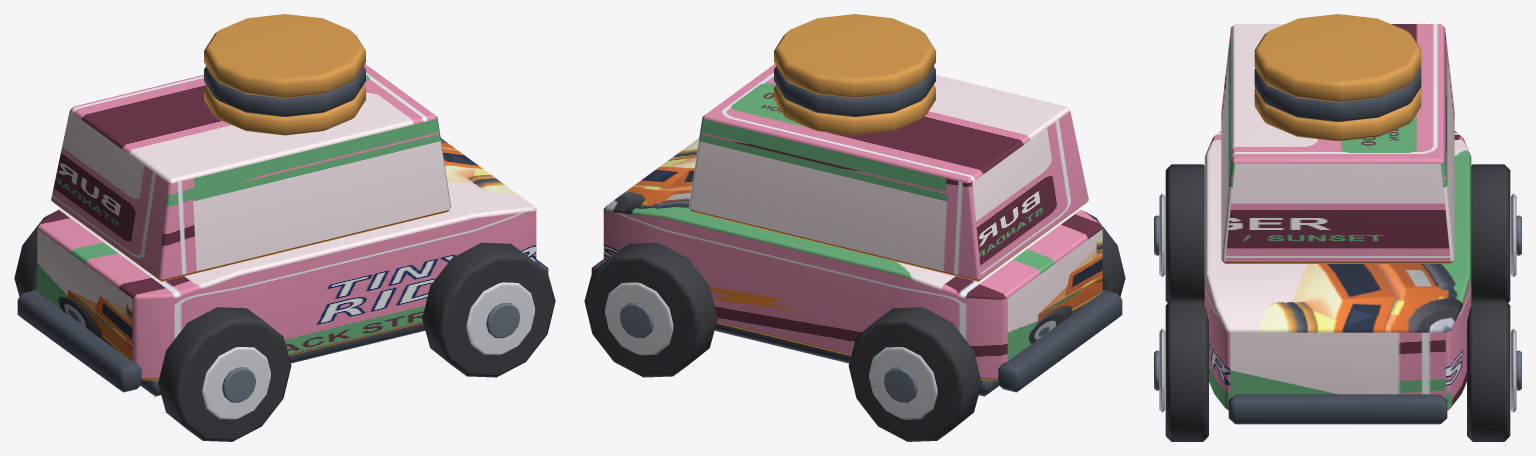
The picture shows the model from 3 angles, left to right: view 1: azimuth 30°, elevation 25°; view 2: azimuth 150°, elevation 25°; view 3: azimuth 270°, elevation 25°; orthographic projection. The views are drawn at different scales.
Visible parts, largest first — view 1: SS-03_cabin, SS-03_connected_shell, burger layer.002, Tire, Tire.002, front bumper, burger layer.001, burger layer, Rim, Rim.002, underbody, Tire.001 (+2 smaller); view 2: SS-03_cabin, SS-03_connected_shell, burger layer.002, Tire.001, Tire.003, front bumper, burger layer.001, burger layer, Rim.001, Rim.003, underbody, Tire (+2 smaller); view 3: SS-03_connected_shell, SS-03_cabin, burger layer.002, rear bumper, Tire.002, Tire.003, Tire, Tire.001, burger layer.001, burger layer, Rim, Rim.001 (+2 smaller).
Part boxes in pixels (<box>): SS-03_cabin: <box>51,64,450,281</box>; SS-03_connected_shell: <box>37,138,536,380</box>; burger layer.002: <box>204,14,365,98</box>; Tire: <box>158,307,291,441</box>; Tire.002: <box>422,242,555,377</box>; front bumper: <box>17,290,142,392</box>; burger layer.001: <box>204,66,365,116</box>; burger layer: <box>204,85,365,135</box>; Rim: <box>202,347,270,419</box>; Rim.002: <box>466,282,534,355</box>; underbody: <box>140,323,425,396</box>; Tire.001: <box>14,211,55,296</box>; SS-03_cabin: <box>689,64,1088,281</box>; SS-03_connected_shell: <box>603,138,1102,380</box>; burger layer.002: <box>774,14,935,98</box>; Tire.001: <box>848,307,981,441</box>; Tire.003: <box>584,242,717,377</box>; front bumper: <box>997,290,1122,392</box>; burger layer.001: <box>774,66,935,116</box>; burger layer: <box>774,85,935,135</box>; Rim.001: <box>869,347,937,419</box>; Rim.003: <box>605,282,673,355</box>; underbody: <box>714,323,999,396</box>; Tire: <box>1084,211,1125,296</box>; SS-03_connected_shell: <box>1204,131,1471,410</box>; SS-03_cabin: <box>1221,24,1454,263</box>; burger layer.002: <box>1254,14,1421,102</box>; rear bumper: <box>1228,394,1447,424</box>; Tire.002: <box>1165,299,1208,441</box>; Tire.003: <box>1467,299,1510,441</box>; Tire: <box>1165,164,1204,302</box>; Tire.001: <box>1471,164,1510,302</box>; burger layer.001: <box>1254,68,1421,121</box>; burger layer: <box>1254,88,1421,140</box>; Rim: <box>1159,193,1165,277</box>; Rim.001: <box>1510,193,1516,277</box>.
Bounding box in the file's own units: 314 × 213 × 221.
